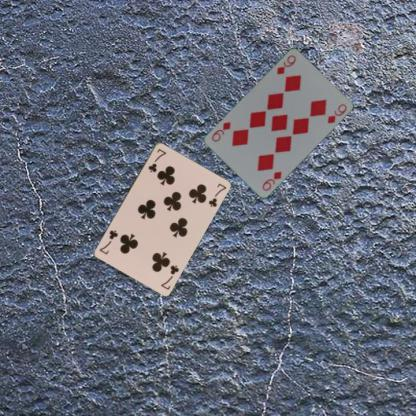7c: (158, 262, 180, 291), (146, 146, 168, 173)
9d: (260, 168, 283, 193), (274, 52, 297, 76)
